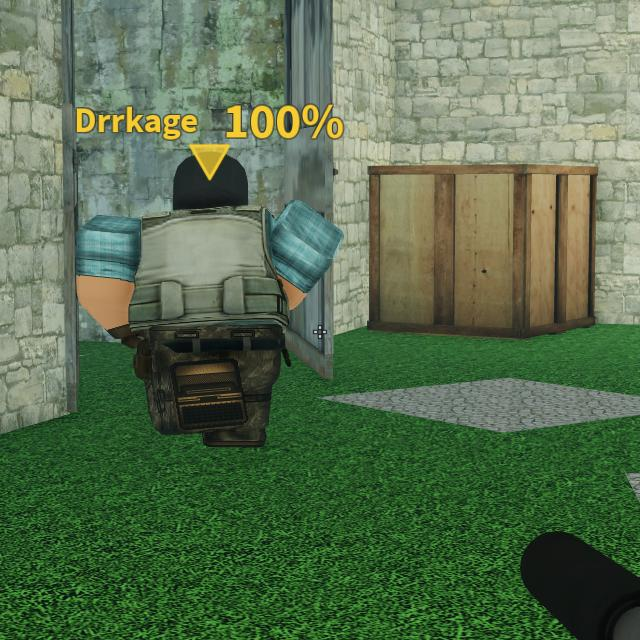Head: (174, 153, 248, 208)
Player: (76, 153, 344, 449)
